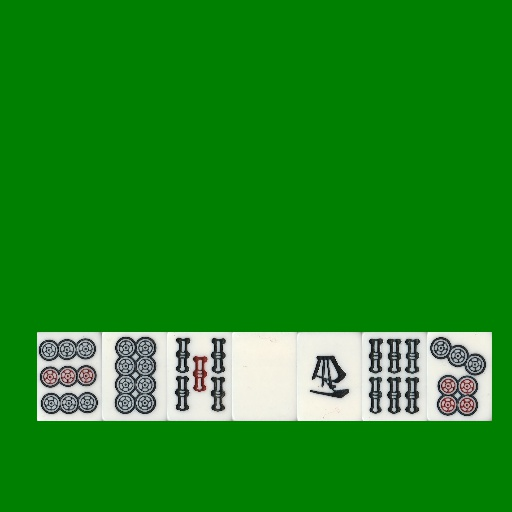5s: (167, 332, 232, 421)
6s: (362, 332, 427, 421)
7p: (427, 332, 492, 421)
8p: (102, 332, 167, 421)
9p: (37, 332, 102, 421)
west: (297, 332, 362, 421)
white: (232, 332, 297, 421)
